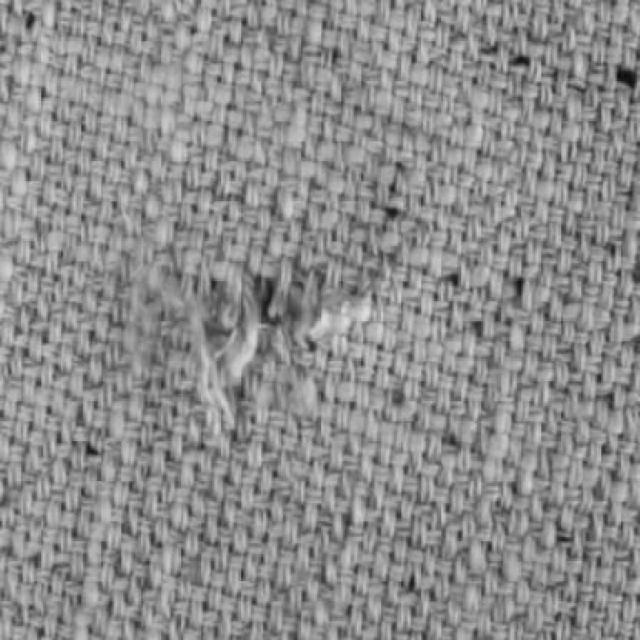other: (164, 224, 378, 426)
